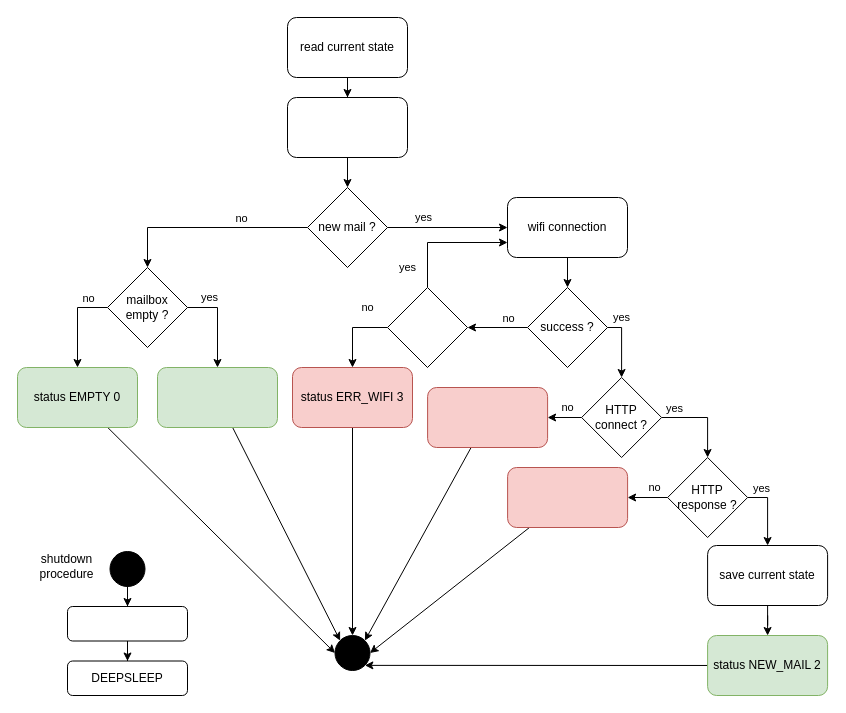
Image size: 846x713. Some labels were removed from this diagram. Here are the shapes that lost their labels. From the top down, the centre of each, then its label:
the point at 347,127: load previous state
the point at 427,327: less than 5 attempts ?
the point at 217,397: status FULL 1
the point at 487,417: status ERR_HTTP 4
the point at 567,497: status ERR_TIMEOUT 5
the point at 127,623: log status
